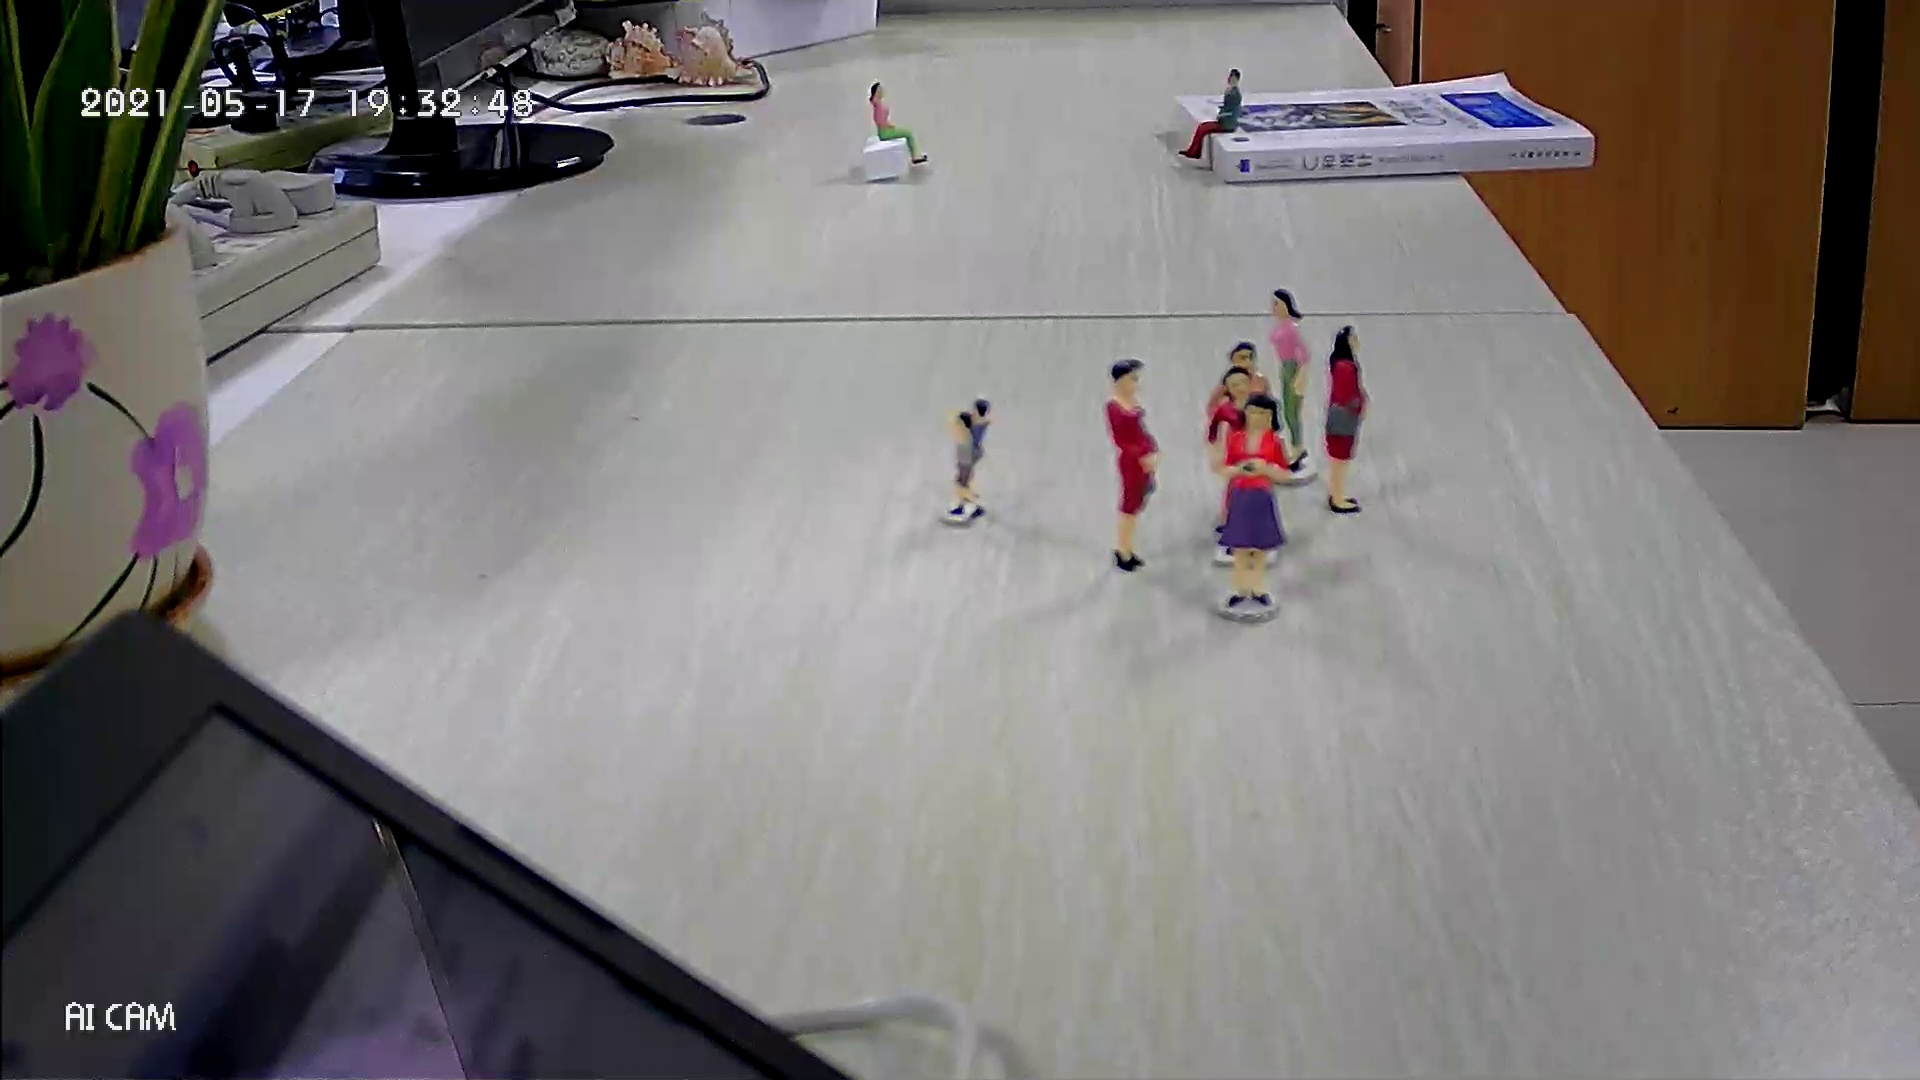person: (1218, 393, 1294, 611), (1204, 341, 1279, 537), (1103, 356, 1166, 574), (1207, 364, 1273, 561), (1324, 323, 1373, 517), (1267, 287, 1312, 477), (1177, 66, 1243, 160), (869, 80, 931, 166), (951, 396, 997, 504), (947, 410, 988, 520)
